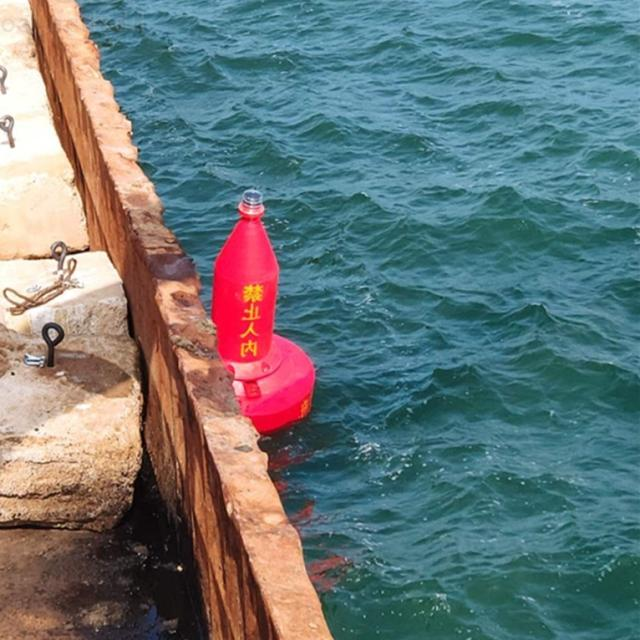buoy: (198, 178, 318, 434)
